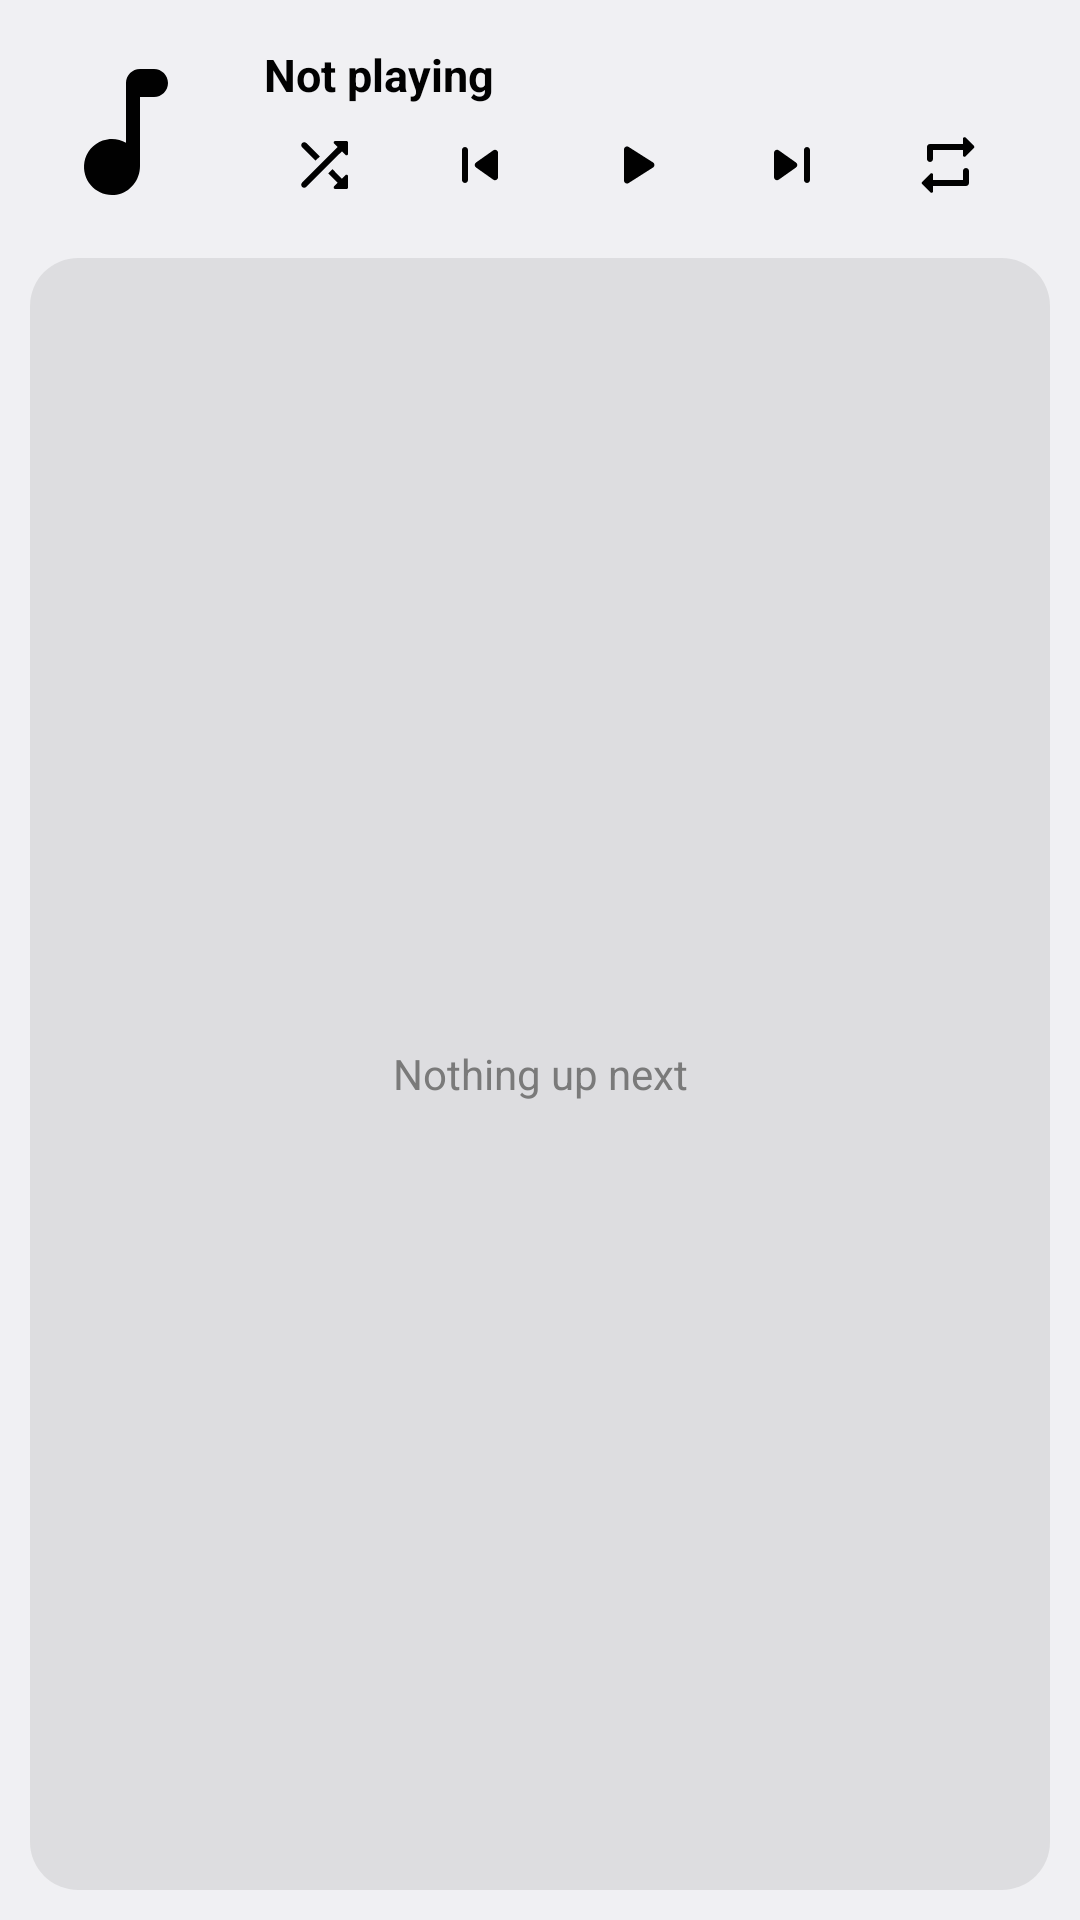

Icons on this 1080x1920 Android screen, each with its box as (x1, y1, x2, y2):
note: (84, 69, 168, 195)
Previous: (462, 147, 498, 183)
Repeat: (921, 137, 975, 193)
Shuffle: (301, 141, 348, 189)
